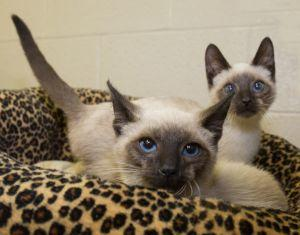siamese: (99, 73, 240, 207)
